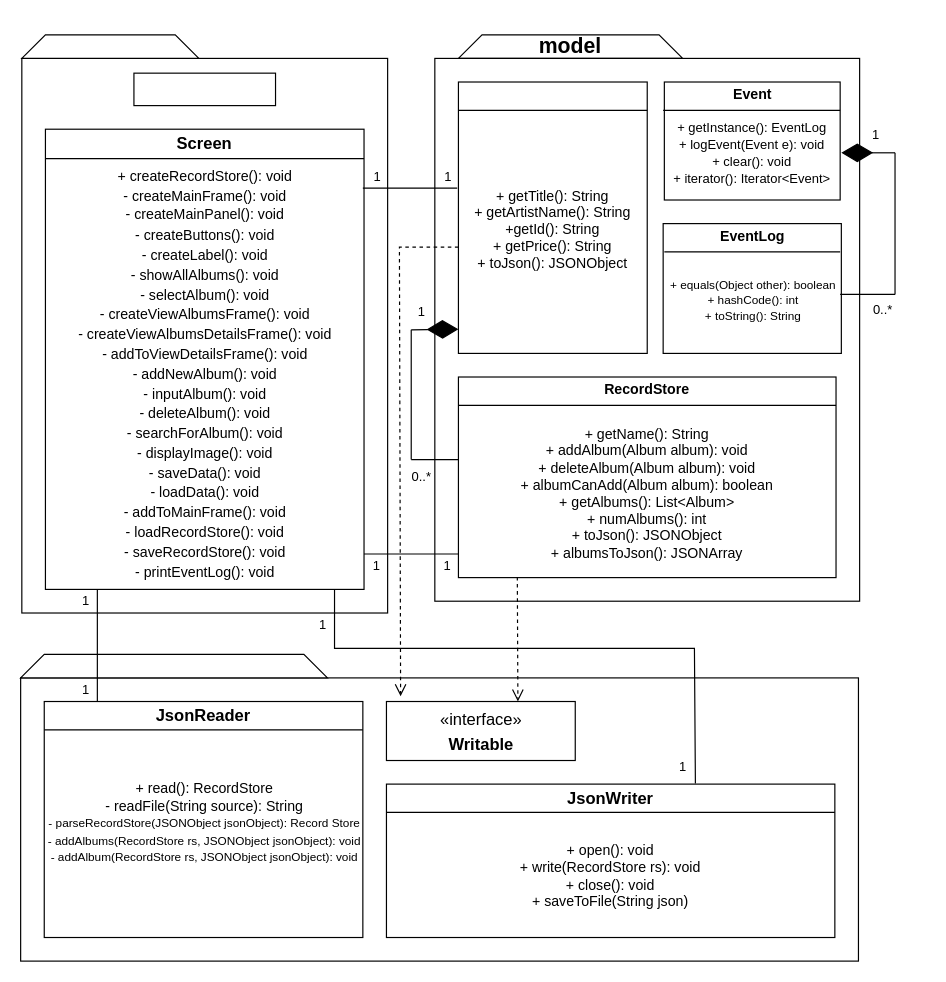
Image size: 946x982. Some labels were removed from this diagram. The box of each missing label's shape, as (x1, y1, x2, y2) in pixels:
Album: (457, 81, 647, 353)
Main: (133, 72, 276, 106)
Persistence: (19, 653, 327, 678)
ui: (21, 34, 199, 58)
